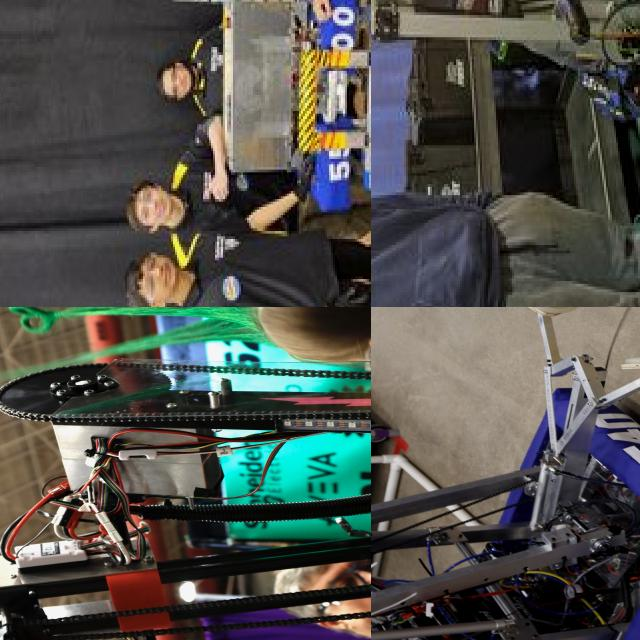FRC-Robots: (0, 377, 371, 640), (371, 353, 640, 640), (372, 0, 640, 197), (227, 0, 368, 189)
